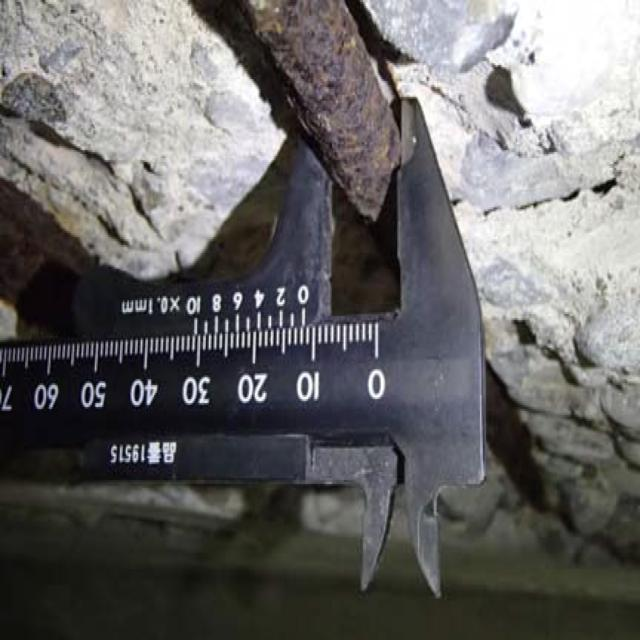corrosion: (230, 3, 404, 278)
